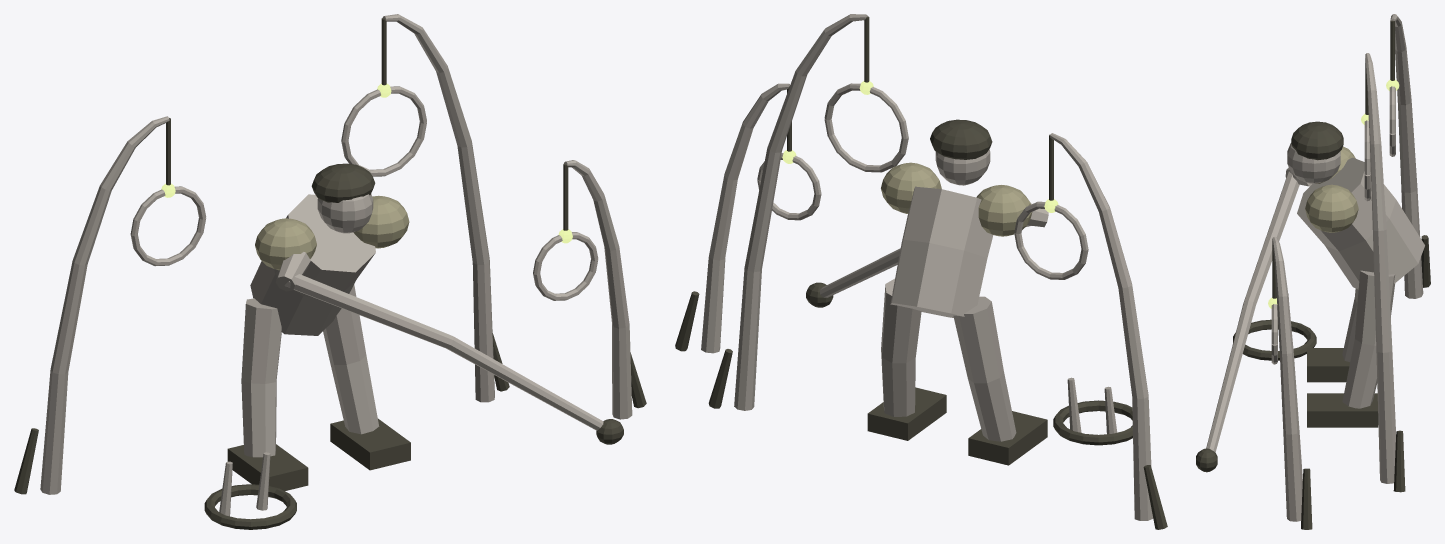
The model's file is snarer.glb.
3 views of the same model, side by side, from view 1: azimuth 30°, elevation 25°; view 2: azimuth 150°, elevation 25°; view 3: azimuth 270°, elevation 25° (orthographic). The views are drawn at different scales.
Visible parts, largest first — view 1: snarer_bone, snarer_dark, snarer_body; view 2: snarer_bone, snarer_dark, snarer_body; view 3: snarer_bone, snarer_dark, snarer_body.
Part boxes in pixels (bbox=[...]): snarer_bone: bbox=[40, 14, 632, 516]; snarer_dark: bbox=[14, 18, 646, 529]; snarer_body: bbox=[255, 195, 409, 270]; snarer_bone: bbox=[701, 14, 1153, 520]; snarer_dark: bbox=[675, 16, 1167, 529]; snarer_body: bbox=[881, 162, 1032, 236]; snarer_bone: bbox=[1206, 14, 1424, 521]; snarer_dark: bbox=[1196, 20, 1430, 529]; snarer_body: bbox=[1305, 146, 1358, 232].
Bounding box in the file's own units: 3.25 × 2.3 × 1.29.
